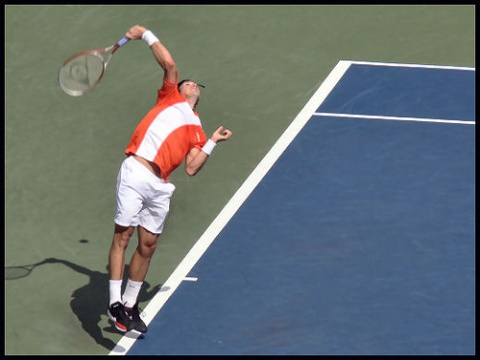hand: (124, 24, 147, 40), (212, 125, 233, 142)
